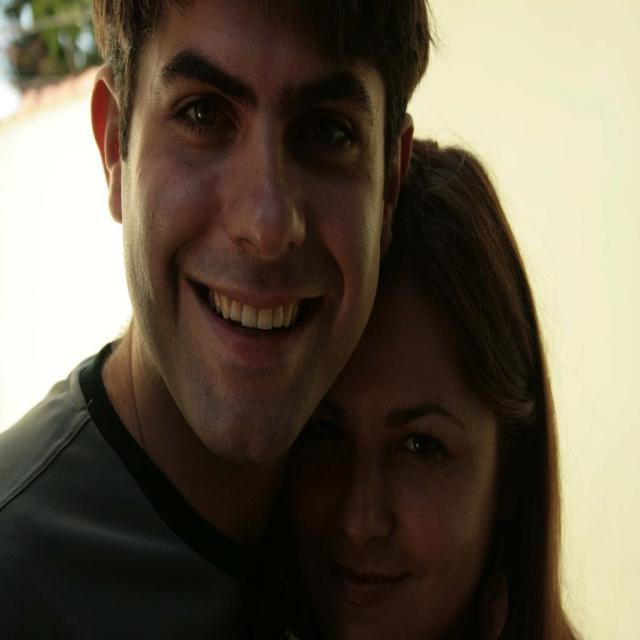no-glass: (170, 90, 352, 161)
